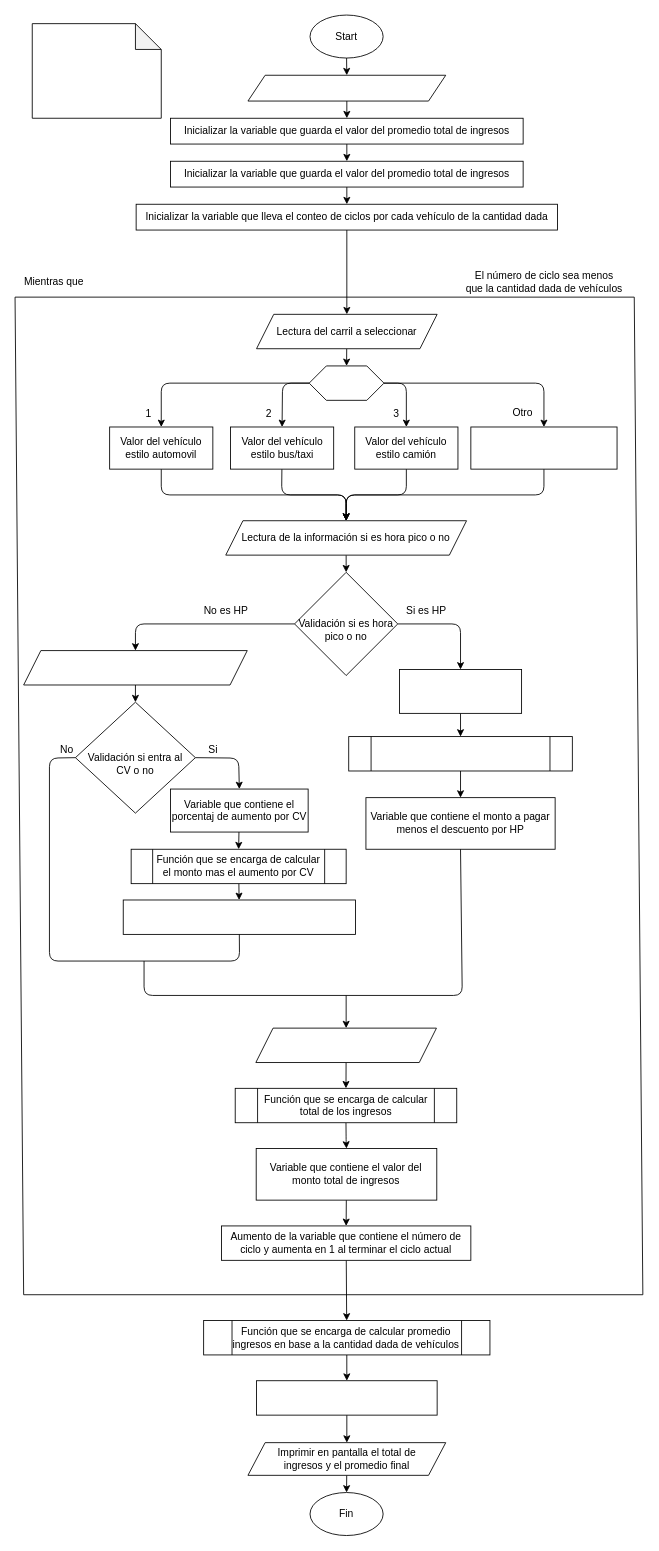
This 659x1551 diagram has some shape labels left out. Each missing label, with the centre of its shape:
"Función que se encarga de calcular el monto menos el descuento por HP" goes at pixel 460 753.
"Lectura de la cantidad de vehículos" goes at pixel 346 87.
"Lectura si el usuario entra en el CV" goes at pixel 135 667.
"Mensaje que se le muestra al usuario al seleccionar una opción incorrecta" goes at pixel 543 447.
"Mostrar en pantalla lo que debe pagar el vehículo" goes at pixel 345 1045.
"Nomenclatura: - CV : Carril Voluntario - HP : Hora Pico" goes at pixel 96 70.
"Opción del carril" goes at pixel 346 382.
"Valor que contiene el valor del promedio total de ingresos." goes at pixel 346 1397.
"Variable que contiene el monto a pagar mas el aumento por CV" goes at pixel 238 916.
"Variable que contiene el porcentaj de descuento por HP" goes at pixel 460 691.
